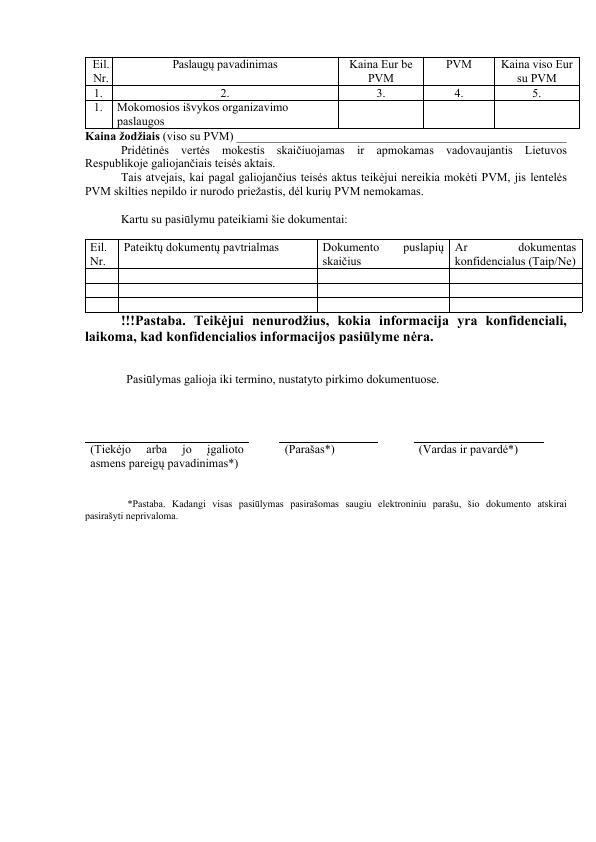input: (82, 432, 255, 475), (81, 131, 568, 143), (410, 436, 548, 464), (278, 434, 381, 461)
table: (81, 237, 582, 314), (83, 54, 582, 130)
text: (81, 146, 572, 201), (81, 315, 568, 348), (86, 497, 569, 522), (124, 372, 445, 392), (120, 212, 349, 228)
